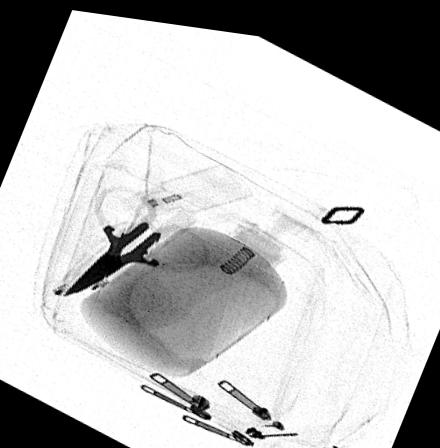Scissors: (62, 177, 211, 294)
